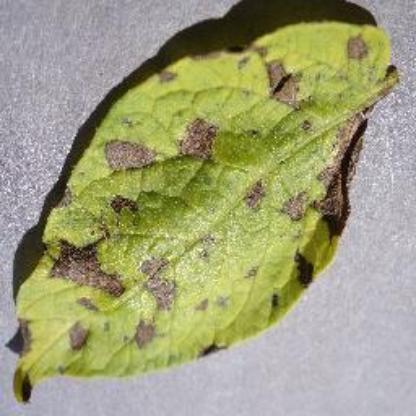Early-Blight: (7, 17, 408, 400)
